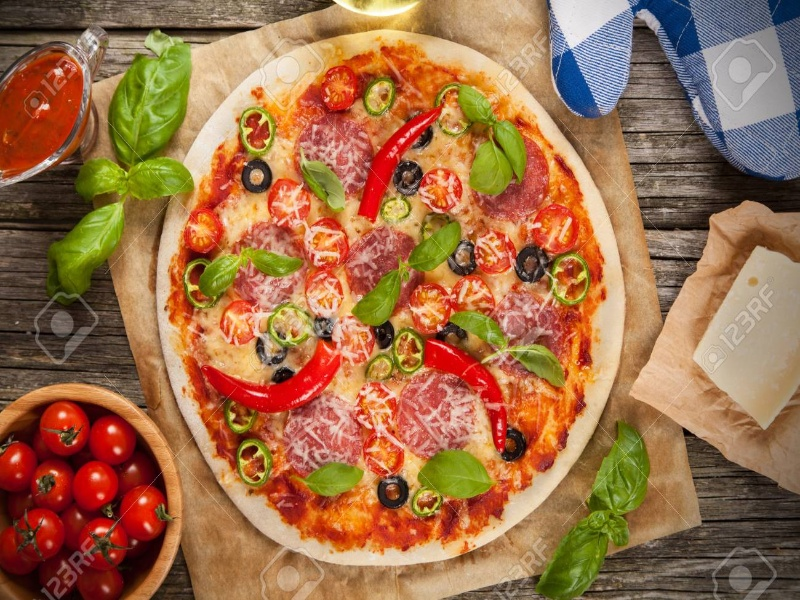olive noir: (237, 160, 279, 197), (451, 236, 483, 278), (374, 474, 412, 507), (515, 244, 548, 282), (493, 426, 521, 460), (397, 162, 421, 201)
